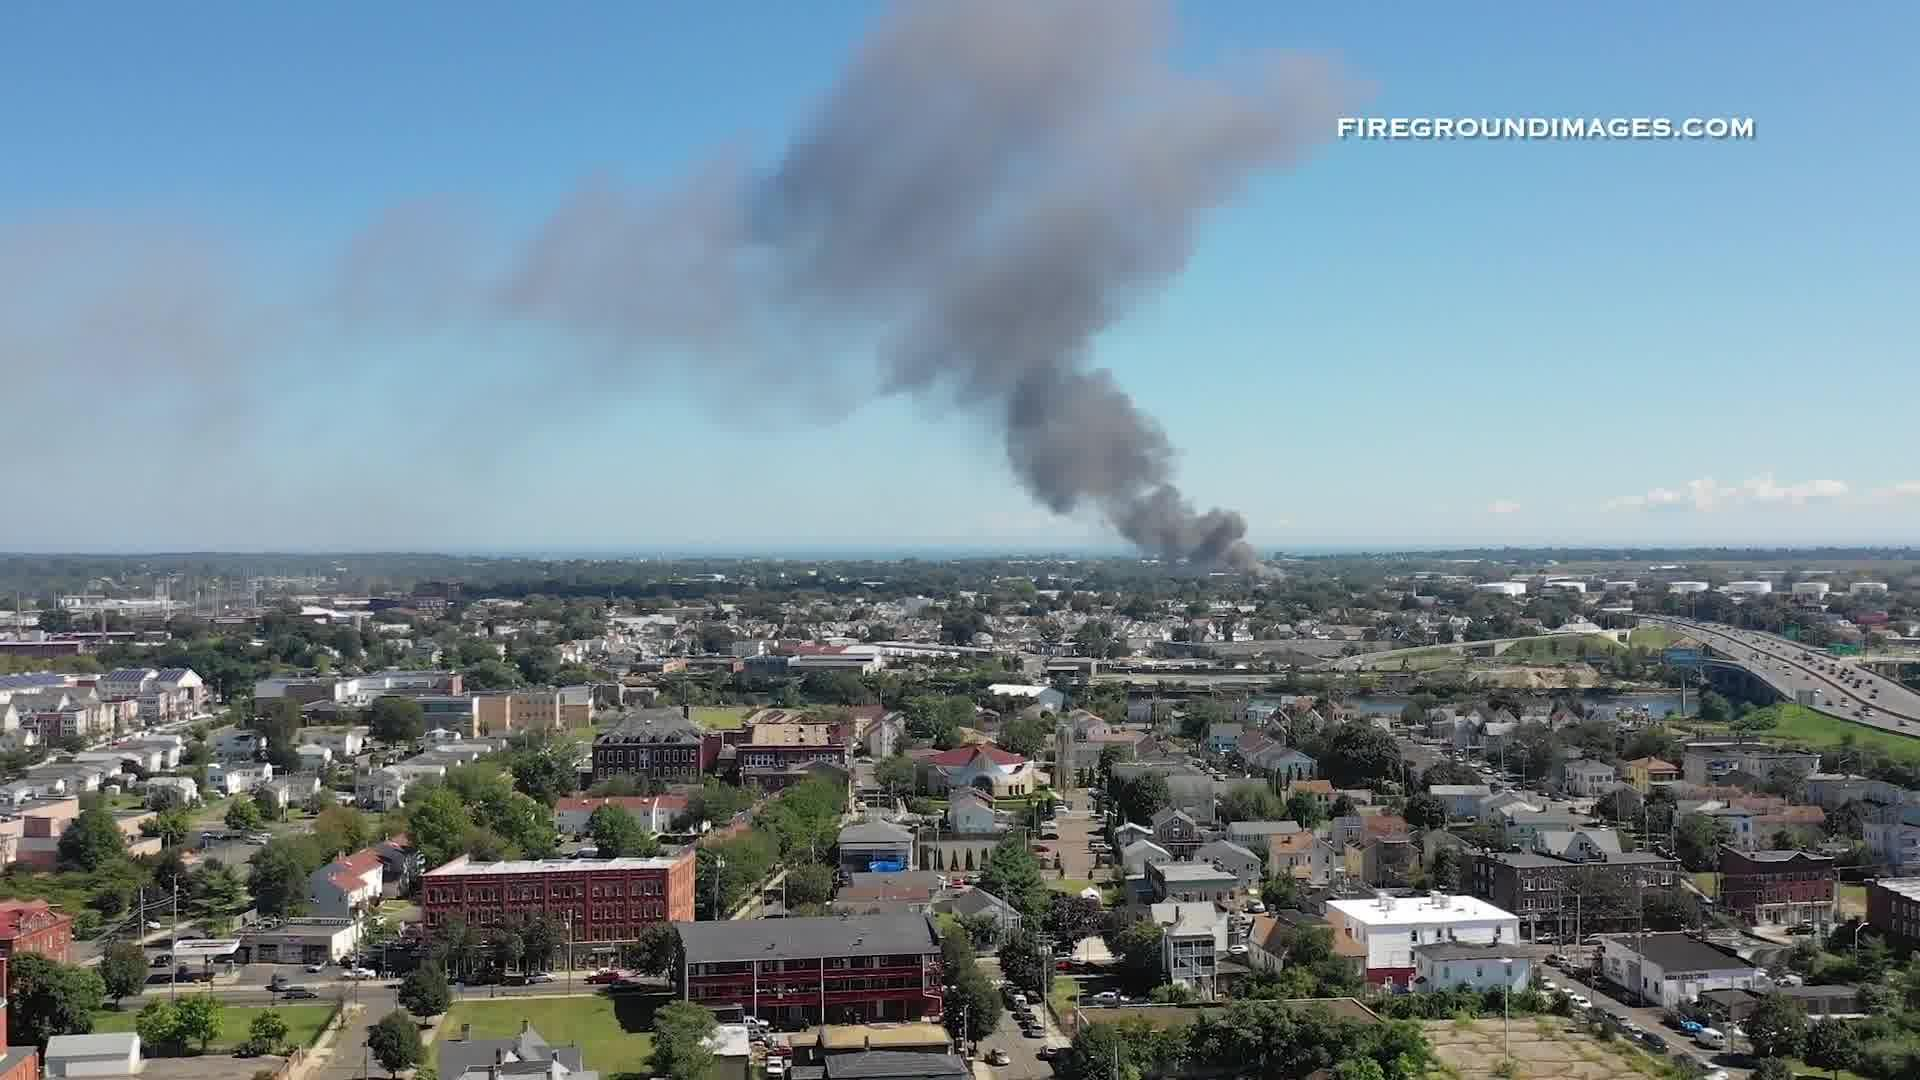smoke: (703, 1, 1333, 553), (0, 165, 702, 400)
